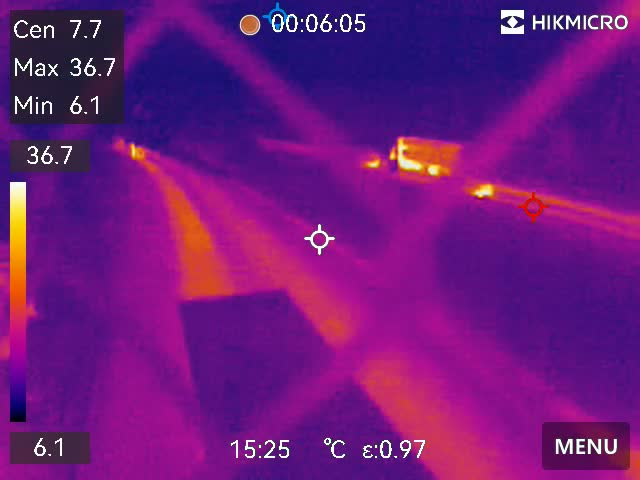heavyTruck: (385, 138, 467, 178)
